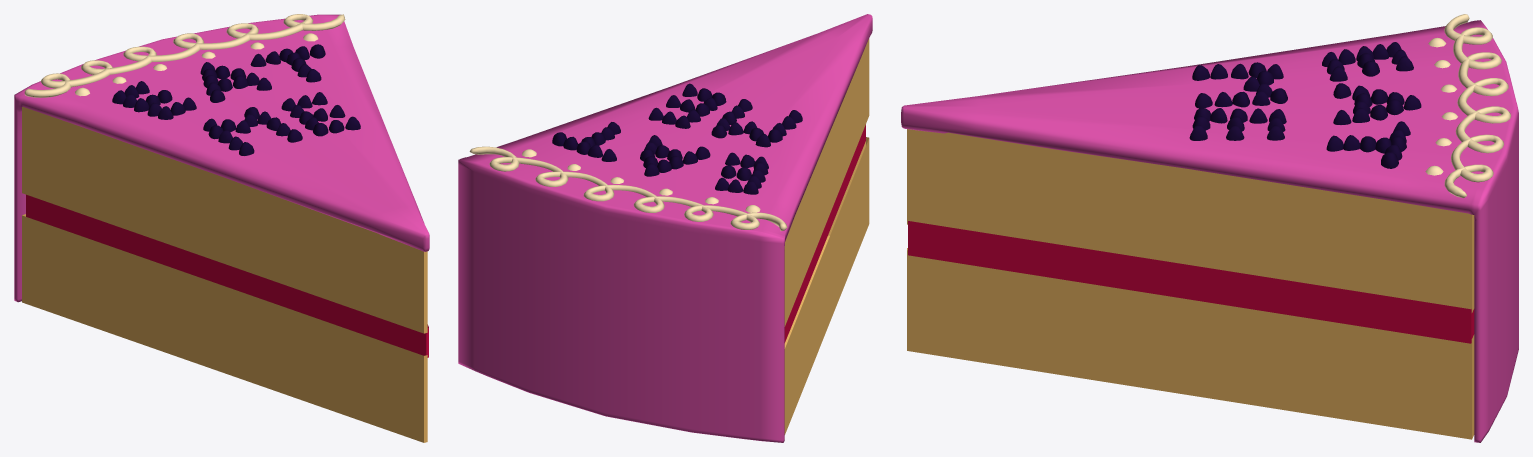
The model's file is Cake.FBX.
3 views of the same model, side by side, from view 1: azimuth 30°, elevation 25°; view 2: azimuth 150°, elevation 25°; view 3: azimuth 270°, elevation 25° (orthographic). The views are drawn at different scales.
Parts seen in each view (by area): view 1: Cake, Frosting, Filling, EatMe, Swirls, Dots; view 2: Frosting, Cake, EatMe, Swirls, Filling, Dots; view 3: Cake, Frosting, Filling, EatMe, Swirls, Dots.
Part boxes in pixels (x1=…): Cake: x1=22, y1=107, x2=427, y2=442; Frosting: x1=14, y1=14, x2=429, y2=302; Filling: x1=26, y1=194, x2=428, y2=357; EatMe: x1=112, y1=44, x2=360, y2=155; Swirls: x1=24, y1=14, x2=345, y2=97; Dots: x1=75, y1=33, x2=318, y2=96; Frosting: x1=458, y1=14, x2=872, y2=442; Cake: x1=784, y1=38, x2=869, y2=434; EatMe: x1=552, y1=83, x2=802, y2=194; Swirls: x1=469, y1=146, x2=787, y2=230; Filling: x1=784, y1=124, x2=865, y2=342; Dots: x1=522, y1=149, x2=760, y2=212; Cake: x1=907, y1=129, x2=1474, y2=439; Frosting: x1=901, y1=20, x2=1518, y2=442; Filling: x1=908, y1=221, x2=1474, y2=343; EatMe: x1=1189, y1=42, x2=1421, y2=168; Swirls: x1=1444, y1=14, x2=1511, y2=197; Dots: x1=1425, y1=37, x2=1457, y2=175.
Bounding box in the file's own units: 3.34 × 2.15 × 4.71.
